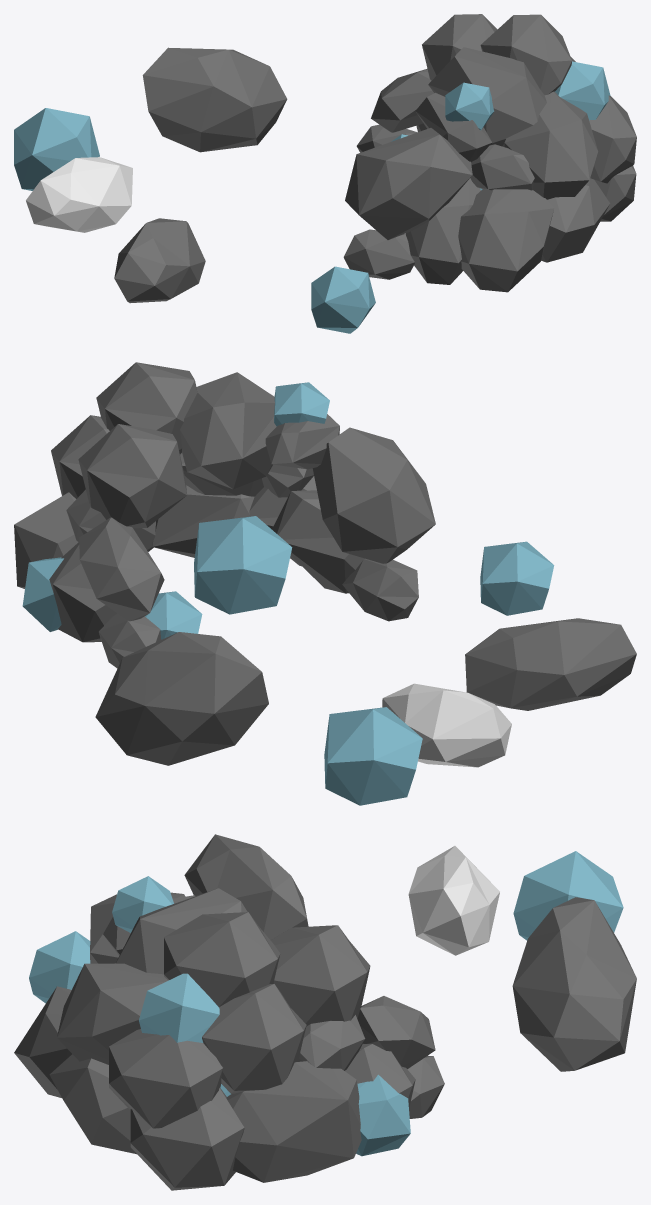
File: DiamondMine.fbx
The picture shows the model from 3 angles, top to bottom: view 1: azimuth 30°, elevation 25°; view 2: azimuth 150°, elevation 25°; view 3: azimuth 270°, elevation 25°; orthographic projection. The views are drawn at different scales.
Parts seen in each view (by area): view 1: Caverne, Icosphere.003, Icosphere.004, Icosphere.005, Icosphere.006, Icosphere.008, Icosphere.002, Icosphere.001; view 2: Caverne, Icosphere.003, Icosphere.005, Icosphere.009, Icosphere.006, Icosphere.004, Icosphere.008, Icosphere.007, Icosphere.001, Icosphere; view 3: Caverne, Icosphere.003, Icosphere.004, Icosphere.005, Icosphere.006, Icosphere.002, Icosphere.007, Icosphere.008, Icosphere.001.
Part boxes in pixels (left/top/right/bottom): Caverne: left=343, top=14, right=636, bottom=292; Icosphere.003: left=142, top=47, right=287, bottom=152; Icosphere.004: left=26, top=157, right=132, bottom=232; Icosphere.005: left=114, top=218, right=205, bottom=303; Icosphere.006: left=14, top=108, right=99, bottom=190; Icosphere.008: left=311, top=266, right=375, bottom=333; Icosphere.002: left=555, top=61, right=610, bottom=120; Icosphere.001: left=445, top=82, right=494, bottom=130; Caverne: left=14, top=362, right=435, bottom=668; Icosphere.003: left=95, top=632, right=268, bottom=765; Icosphere.005: left=465, top=618, right=636, bottom=710; Icosphere.009: left=194, top=516, right=292, bottom=614; Icosphere.006: left=324, top=707, right=422, bottom=805; Icosphere.004: left=382, top=683, right=511, bottom=767; Icosphere.008: left=480, top=541, right=554, bottom=615; Icosphere.007: left=22, top=557, right=63, bottom=631; Icosphere.001: left=274, top=382, right=329, bottom=426; Icosphere: left=145, top=591, right=202, bottom=639; Caverne: left=14, top=888, right=444, bottom=1190; Icosphere.003: left=512, top=897, right=636, bottom=1071; Icosphere.004: left=408, top=846, right=499, bottom=955; Icosphere.005: left=184, top=834, right=308, bottom=940; Icosphere.006: left=513, top=851, right=623, bottom=940; Icosphere.002: left=139, top=973, right=219, bottom=1042; Icosphere.007: left=356, top=1074, right=410, bottom=1156; Icosphere.008: left=29, top=931, right=90, bottom=1003; Icosphere.001: left=112, top=876, right=173, bottom=932.
Bounding box in the file's own units: 1101 × 424 × 965.
